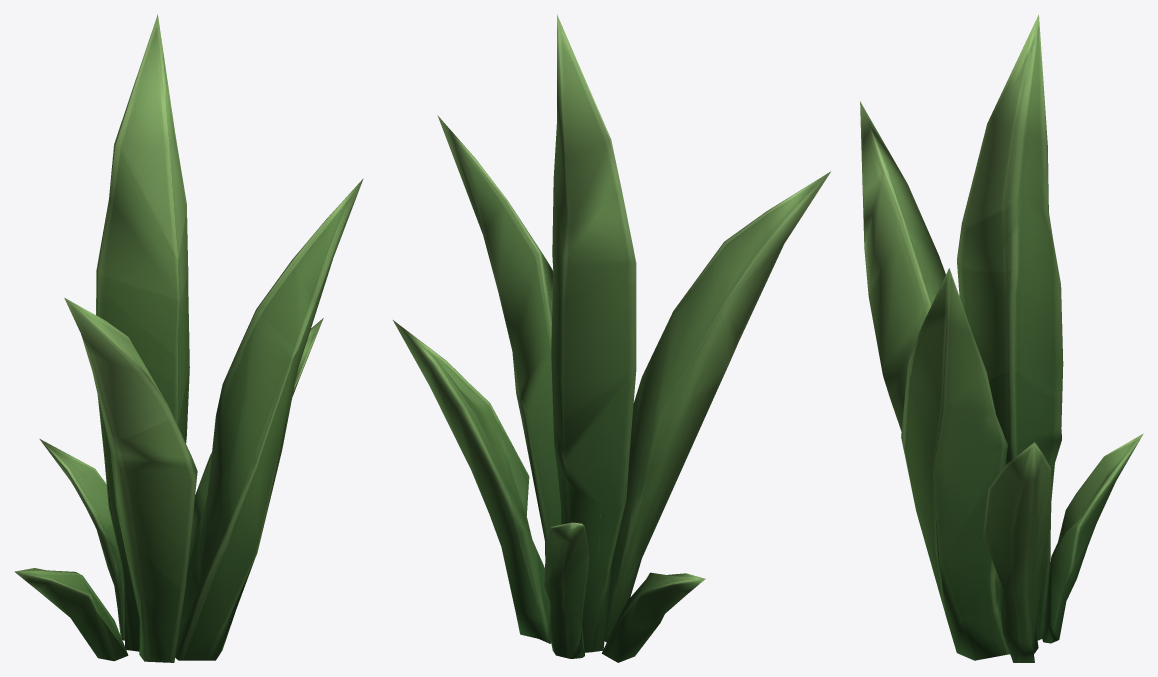
File: trava1_500.glb
3 views of the same model, side by side, from view 1: azimuth 30°, elevation 25°; view 2: azimuth 150°, elevation 25°; view 3: azimuth 270°, elevation 25° (orthographic).
Bounding box in the file's own units: 0.5542 × 0.9512 × 0.3882.
1 material, 1 textured.
